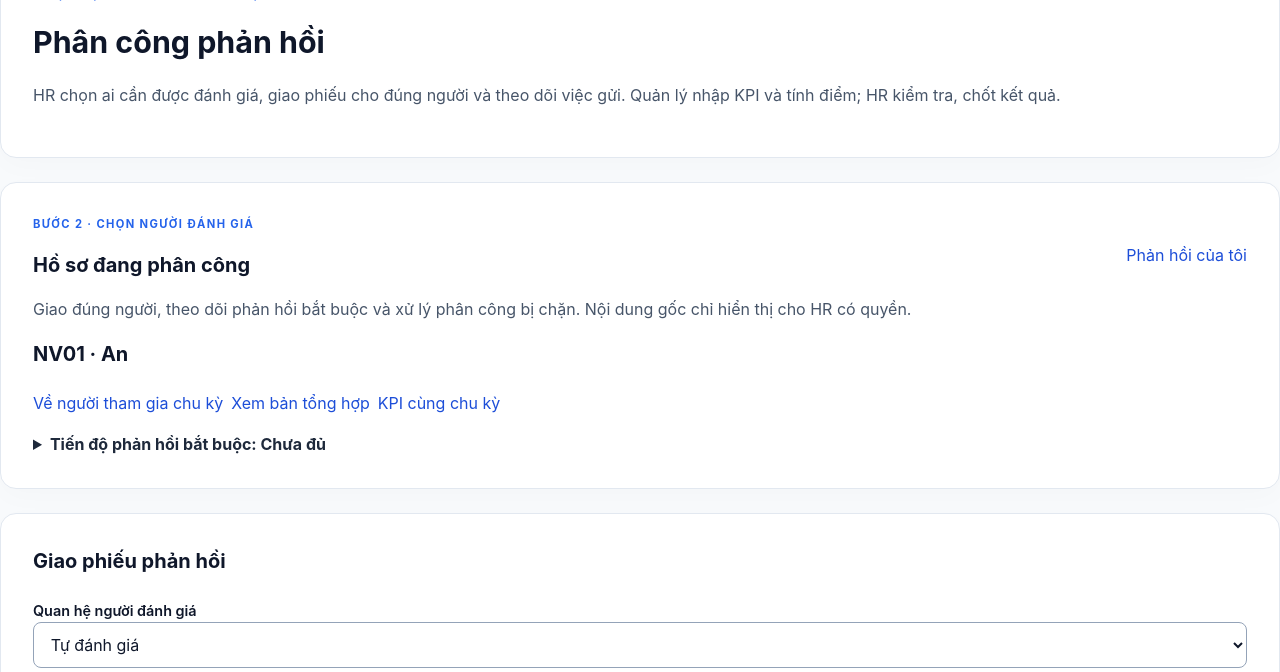
clears reviewer selection when changing the relationship
Step 1. Select "Đồng nghiệp" in the dropdown labelled "Quan hệ người đánh giá" → (640, 645), box [33,622,1247,668]
(page scrolled)
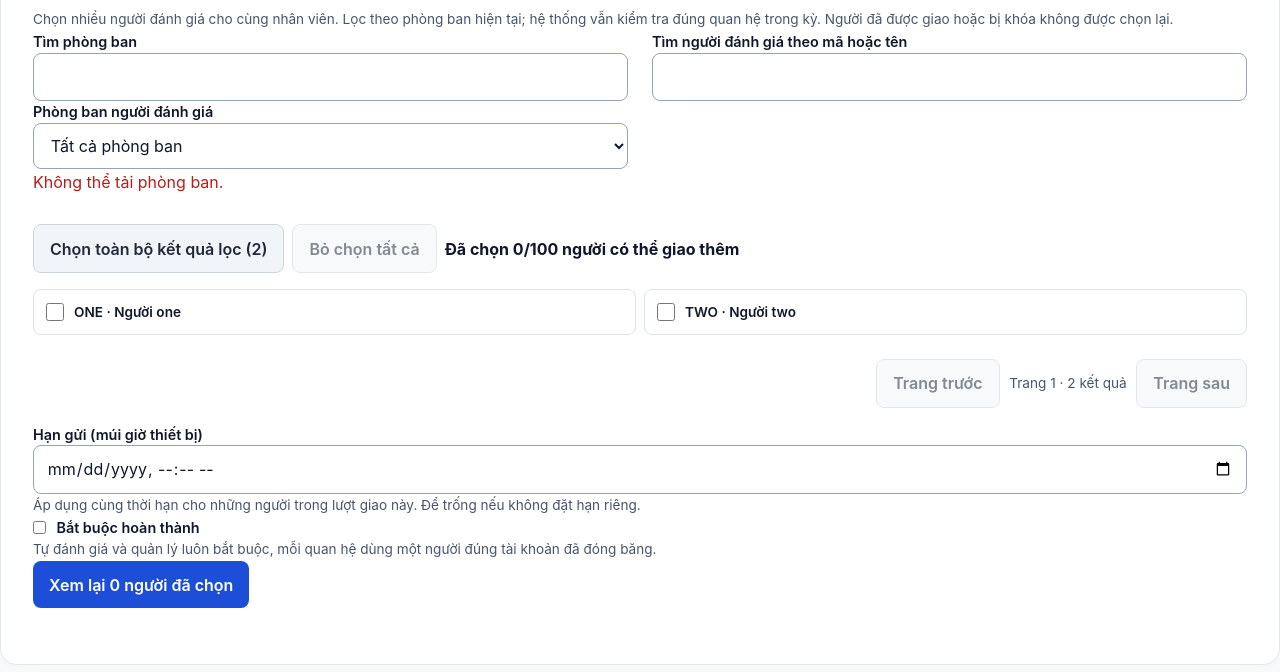
Step 2. Click the checkbox labelled "ONE · Người one" → (55, 312), box [46,303,64,321]
(page scrolled)
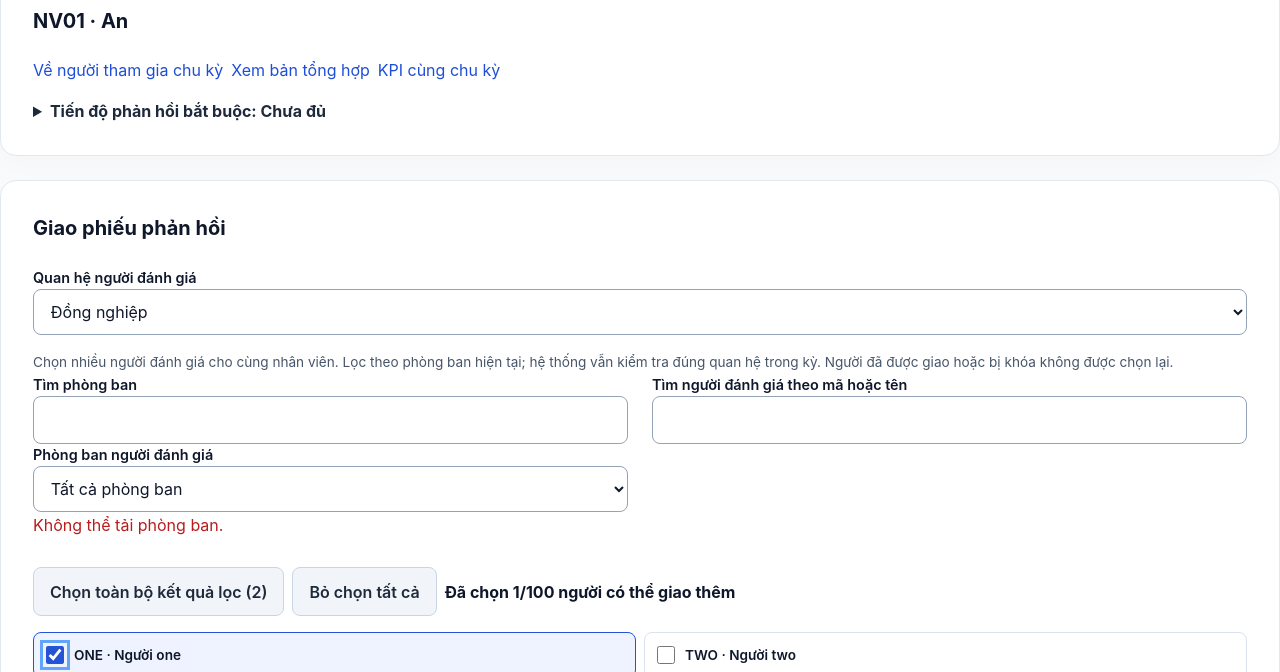
Step 3. Select "Cấp dưới" in the dropdown labelled "Quan hệ người đánh giá" → (640, 312), box [33,289,1247,335]
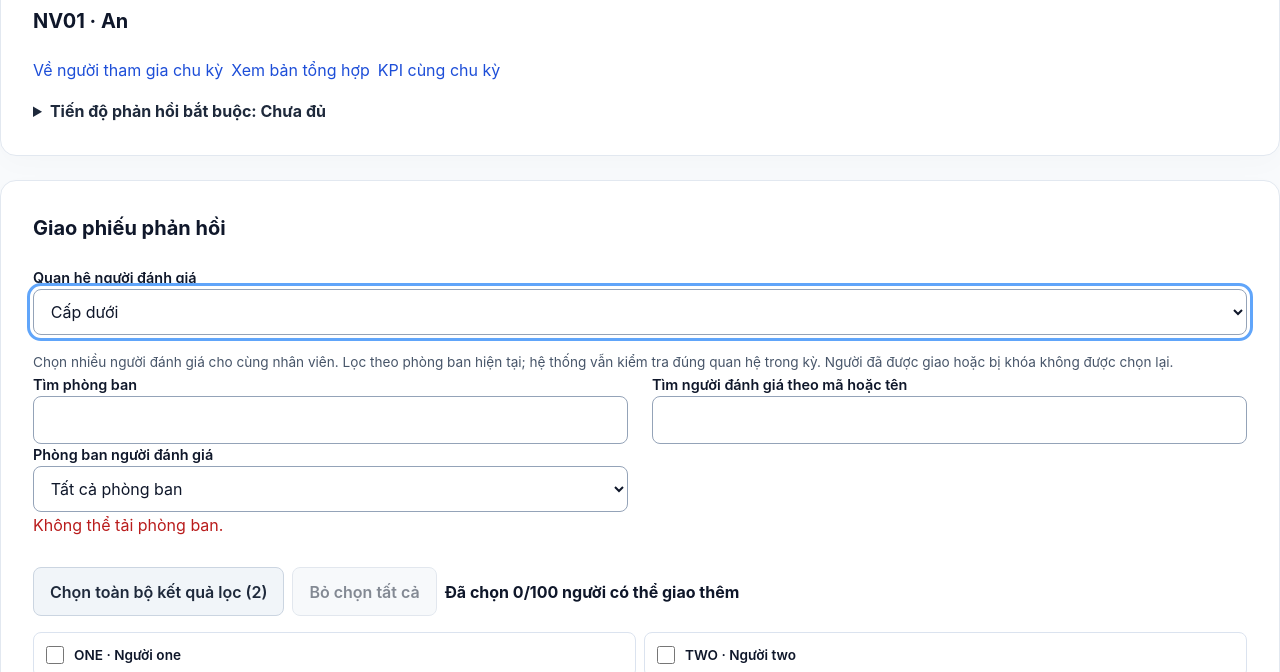
Now the text "Đã chọn 0/100 người có thể giao thêm" is shown, box [445,580,739,604]
Now the checkbox labelled "ONE · Người one" is not checked, box [46,646,64,664]
